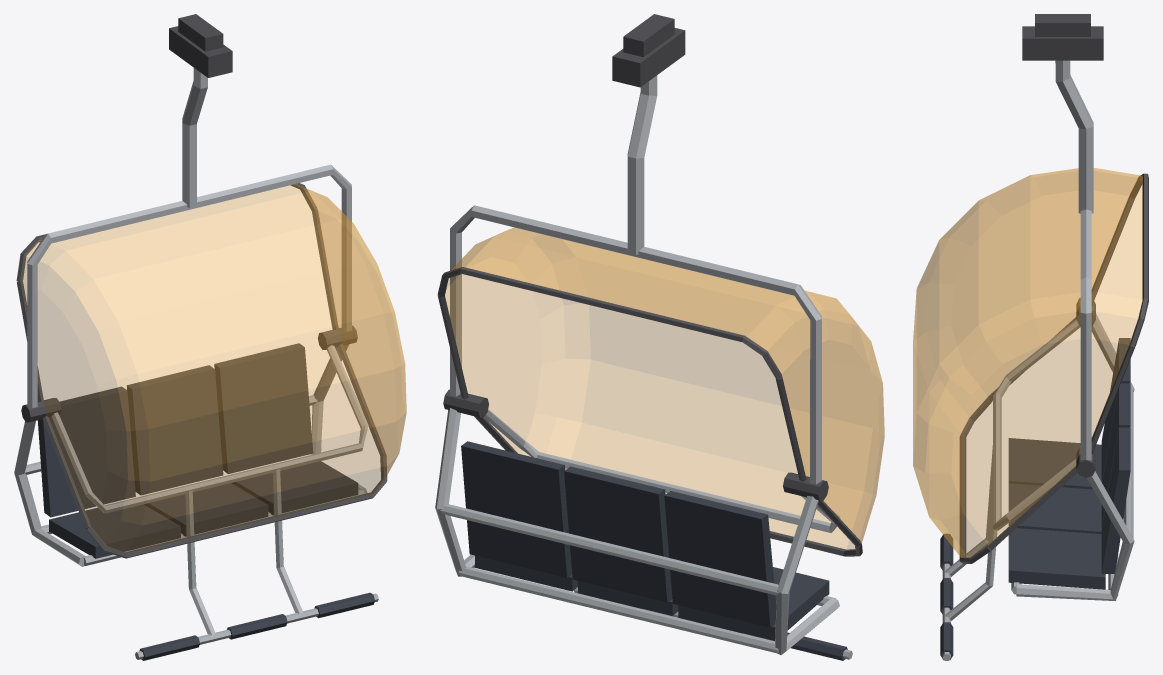
File: chairlift-3.glb
The picture shows the model from 3 angles, left to right: view 1: azimuth 30°, elevation 25°; view 2: azimuth 150°, elevation 25°; view 3: azimuth 270°, elevation 25°; orthographic projection. The views are drawn at different scales.
Visible parts, largest first — view 1: Hood, Chair, SafetyBar; view 2: Hood, Chair, SafetyBar; view 3: Hood, Chair, SafetyBar.
Boxes of the visible parts, left/top/right/bottom form: Hood: left=16, top=183, right=406, bottom=558; Chair: left=14, top=14, right=367, bottom=566; SafetyBar: left=51, top=345, right=378, bottom=660; Hood: left=437, top=227, right=884, bottom=556; Chair: left=435, top=14, right=839, bottom=654; SafetyBar: left=484, top=409, right=852, bottom=660; Hood: left=913, top=168, right=1148, bottom=563; Chair: left=1008, top=14, right=1134, bottom=600; SafetyBar: left=940, top=320, right=1080, bottom=660.
Bounding box in the file's own units: 2.02 × 3.33 × 1.22.
